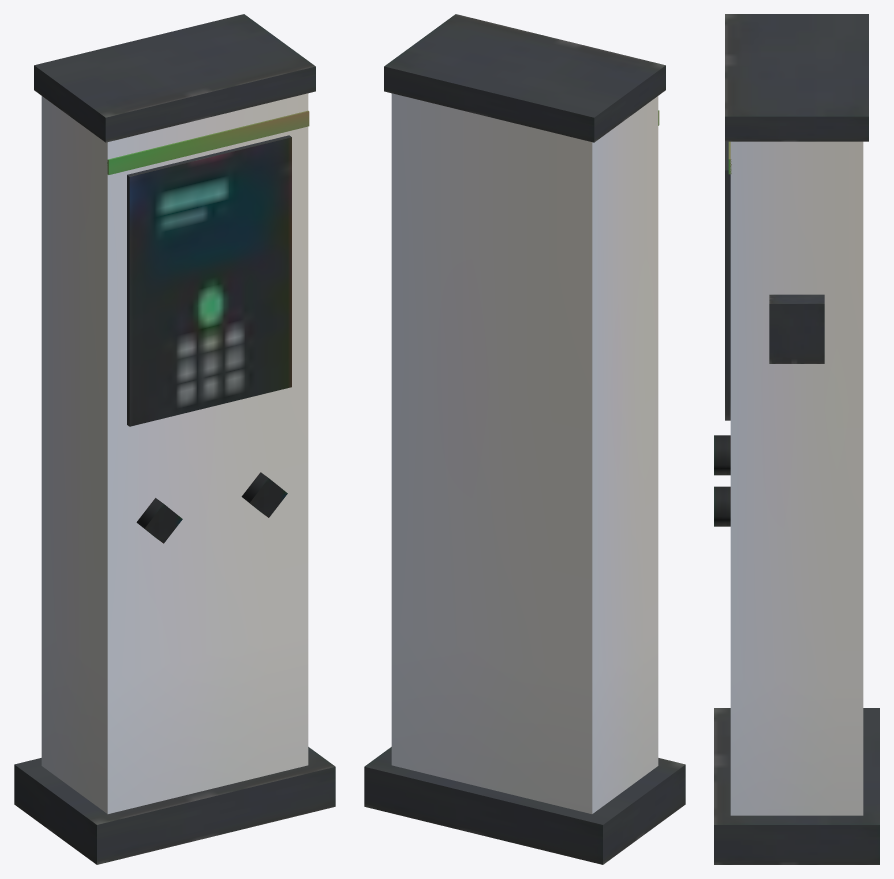
The model's file is borne_recharge_lod2.glb.
3 views of the same model, side by side, from view 1: azimuth 30°, elevation 25°; view 2: azimuth 150°, elevation 25°; view 3: azimuth 270°, elevation 25° (orthographic).
Visible parts, largest first — view 1: borne_recharge; view 2: borne_recharge; view 3: borne_recharge.
Part boxes in pixels (x1,y1,x2,y2): borne_recharge: (14,14,335,864); borne_recharge: (364,14,685,864); borne_recharge: (714,14,879,864).
Size of the model in its own units: 0.5 by 1.48 by 0.2999.
1 material, 1 textured.
